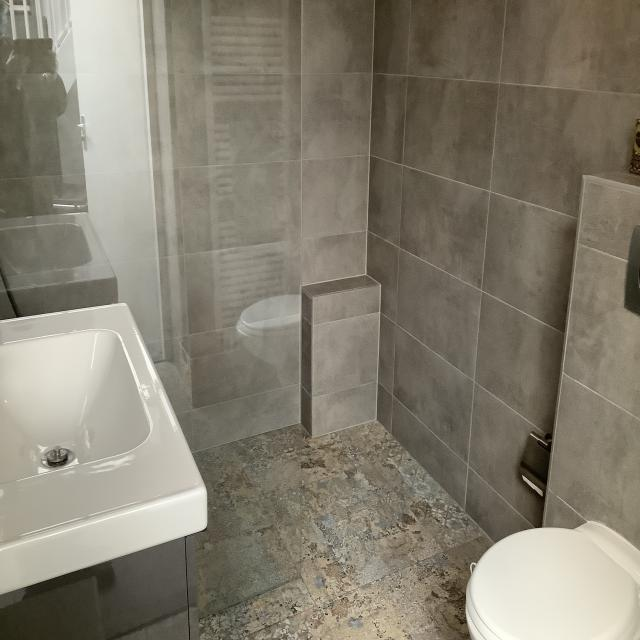douche: (0, 0, 322, 622)
toilet: (461, 518, 640, 639)
wastafel: (0, 303, 209, 594), (0, 529, 205, 640)
